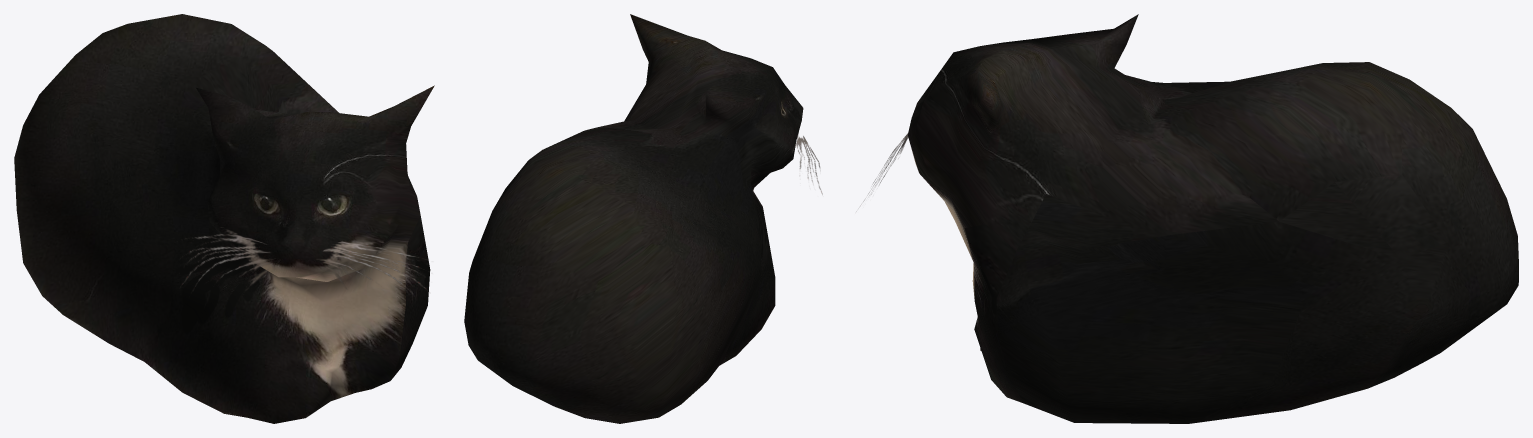
The model's file is cat.glb.
3 views of the same model, side by side, from view 1: azimuth 30°, elevation 25°; view 2: azimuth 150°, elevation 25°; view 3: azimuth 270°, elevation 25° (orthographic). The views are drawn at different scales.
Parts seen in each view (by area): view 1: Maxwell, whiskers; view 2: Maxwell, whiskers; view 3: Maxwell.
Boxes of the visible parts, left/top/right/bottom form: Maxwell: left=14, top=14, right=434, bottom=423; whiskers: left=182, top=227, right=429, bottom=294; Maxwell: left=464, top=14, right=803, bottom=423; whiskers: left=795, top=133, right=822, bottom=194; Maxwell: left=908, top=14, right=1518, bottom=423.
Bounding box in the file's own units: 0.1537 × 0.1829 × 0.3199.
Materials: 2 (2 with a texture image).
